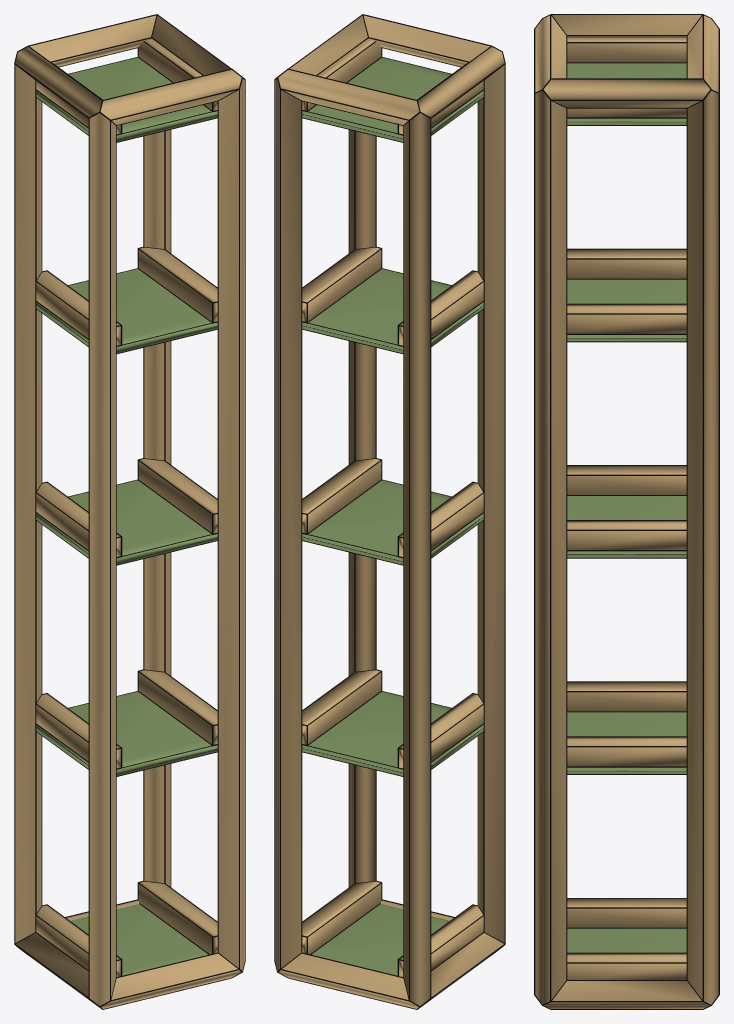
The model's file is 015-bibliotheque.glb.
3 views of the same model, side by side, from view 1: azimuth 30°, elevation 25°; view 2: azimuth 150°, elevation 25°; view 3: azimuth 270°, elevation 25° (orthographic). The views are drawn at different scales.
Parts seen in each view (by area): view 1: arete-Z0, arete-Z1, arete-Z2, arete-Z3, tablette-plate-mod-1, tablette-plate-mod-3, tablette-plate-mod-2, arete-wire-Z2, tablette-plate-mod-4, tablette-plate-mod-0, arete-X2, arete-wire-Z0 (+20 smaller); view 2: arete-Z2, arete-Z3, arete-Z0, arete-Z1, tablette-plate-mod-1, tablette-plate-mod-3, tablette-plate-mod-2, arete-wire-Z0, tablette-plate-mod-4, tablette-plate-mod-0, arete-X3, arete-wire-Z2 (+21 smaller); view 3: arete-Z1, arete-Z3, arete-wire-Z1, arete-wire-Z3, arete-Y3, tablette-plate-mod-1, tablette-plate-mod-3, arete-Y1, tablette-plate-mod-2, tablette-traverse-left-mod-0, tablette-traverse-left-mod-3, tablette-traverse-right-mod-3 (+24 smaller).
Part boxes in pixels (<box>): arete-Z0: <box>89,113,115,1005</box>; arete-Z1: <box>218,78,244,970</box>; arete-Z2: <box>15,65,41,942</box>; arete-Z3: <box>144,130,170,886</box>; tablette-plate-mod-1: <box>36,691,217,775</box>; tablette-plate-mod-3: <box>36,269,217,353</box>; tablette-plate-mod-2: <box>36,480,217,564</box>; arete-wire-Z2: <box>14,64,42,943</box>; tablette-plate-mod-4: <box>36,57,217,141</box>; tablette-plate-mod-0: <box>70,904,208,975</box>; arete-X2: <box>100,69,241,124</box>; arete-wire-Z0: <box>88,112,116,1001</box>; arete-Z2: <box>404,113,430,1005</box>; arete-Z3: <box>275,78,301,970</box>; arete-Z0: <box>478,65,504,942</box>; arete-Z1: <box>349,130,375,886</box>; tablette-plate-mod-1: <box>302,691,483,775</box>; tablette-plate-mod-3: <box>302,269,483,353</box>; tablette-plate-mod-2: <box>302,480,483,564</box>; arete-wire-Z0: <box>477,52,505,943</box>; tablette-plate-mod-4: <box>302,57,483,141</box>; tablette-plate-mod-0: <box>311,904,449,975</box>; arete-X3: <box>278,69,419,124</box>; arete-wire-Z2: <box>403,112,431,1001</box>; arete-Z1: <box>535,90,566,1004</box>; arete-Z3: <box>687,90,718,1004</box>; arete-wire-Z1: <box>534,89,567,1001</box>; arete-wire-Z3: <box>686,93,719,1001</box>; arete-Y3: <box>543,79,710,107</box>; tablette-plate-mod-1: <box>567,712,686,773</box>; tablette-plate-mod-3: <box>567,279,686,341</box>; arete-Y1: <box>544,981,709,1008</box>; tablette-plate-mod-2: <box>567,496,686,557</box>; tablette-traverse-left-mod-0: <box>567,898,686,927</box>; tablette-traverse-left-mod-3: <box>567,249,686,278</box>; tablette-traverse-right-mod-3: <box>567,304,686,333</box>.
Bounding box in the file's own units: 0.3309 × 1.83 × 0.3309.
